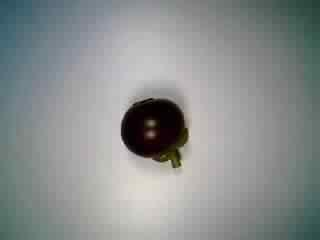mangosteen: (118, 94, 191, 169)
